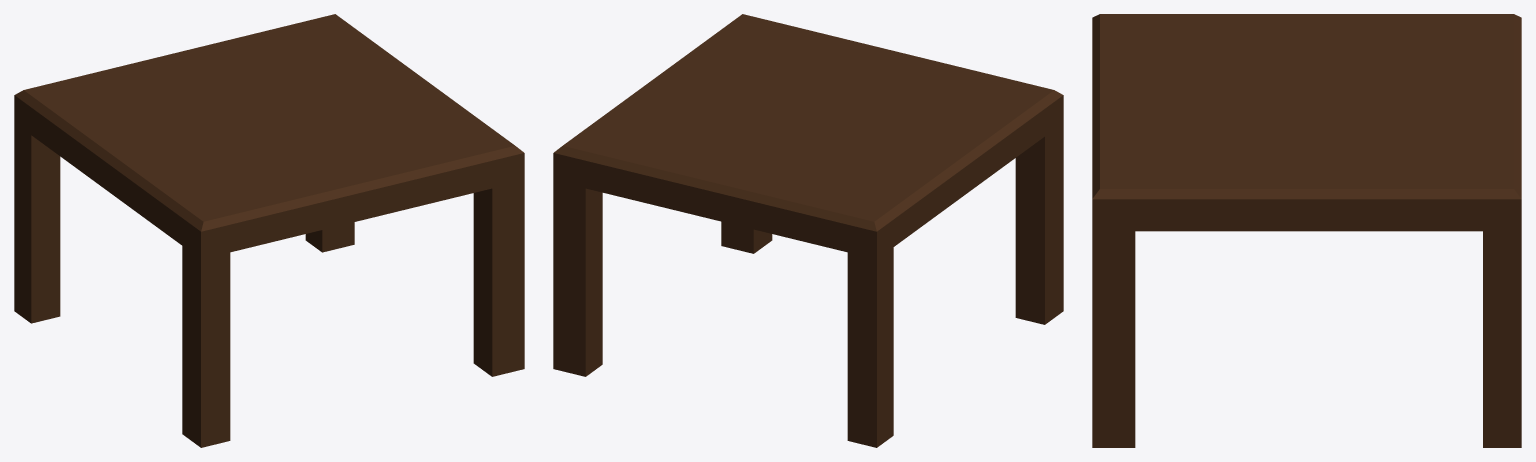
The model's file is smallTable.fbx.
3 views of the same model, side by side, from view 1: azimuth 30°, elevation 25°; view 2: azimuth 150°, elevation 25°; view 3: azimuth 270°, elevation 25° (orthographic). The views are drawn at different scales.
Parts seen in each view (by area): view 1: pCube3; view 2: pCube3; view 3: pCube3.
Part boxes in pixels (bbox=[...]): pCube3: bbox=[14, 14, 524, 447]; pCube3: bbox=[553, 14, 1063, 447]; pCube3: bbox=[1092, 14, 1521, 447].
Size of the model in its own units: 2 by 1.31 by 2.
